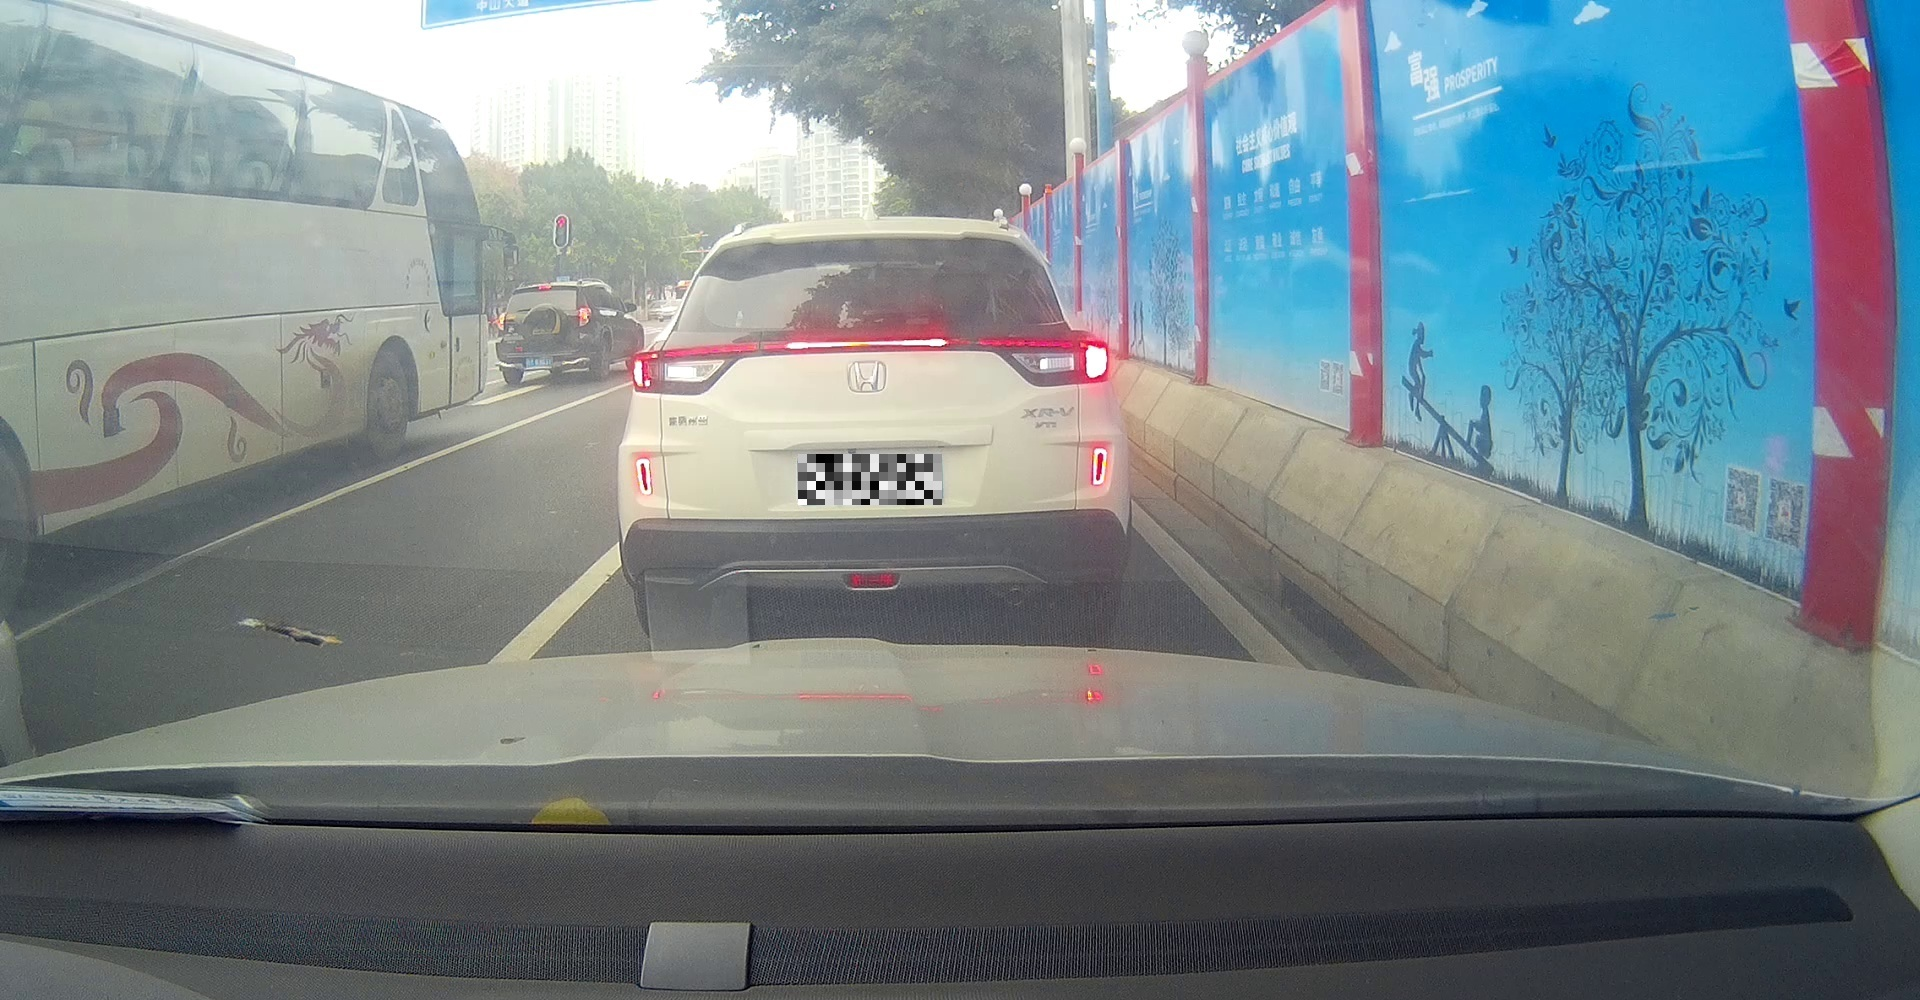L_light: (625, 343, 759, 395), (497, 312, 505, 331)
R_light: (980, 338, 1110, 386), (578, 308, 592, 327)
T_light: (764, 339, 969, 352), (538, 286, 552, 291)
day-brake: (617, 218, 1131, 640), (494, 282, 593, 385)
plate_1: (797, 454, 942, 505)
